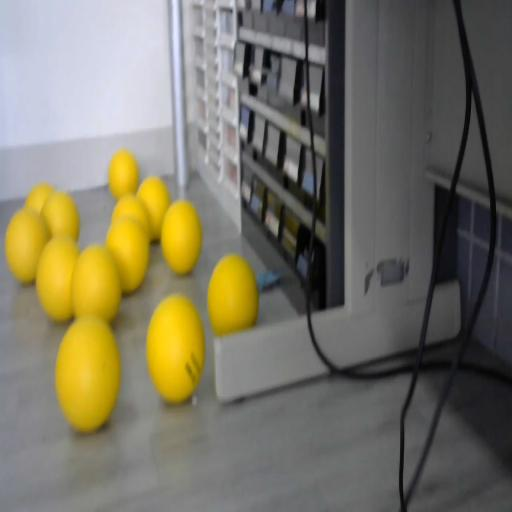FUEL: (54, 314, 121, 431), (145, 292, 206, 403), (207, 254, 259, 336), (71, 244, 123, 324), (4, 208, 50, 284), (160, 199, 203, 275), (110, 194, 151, 240), (108, 148, 139, 198), (26, 183, 54, 216)
